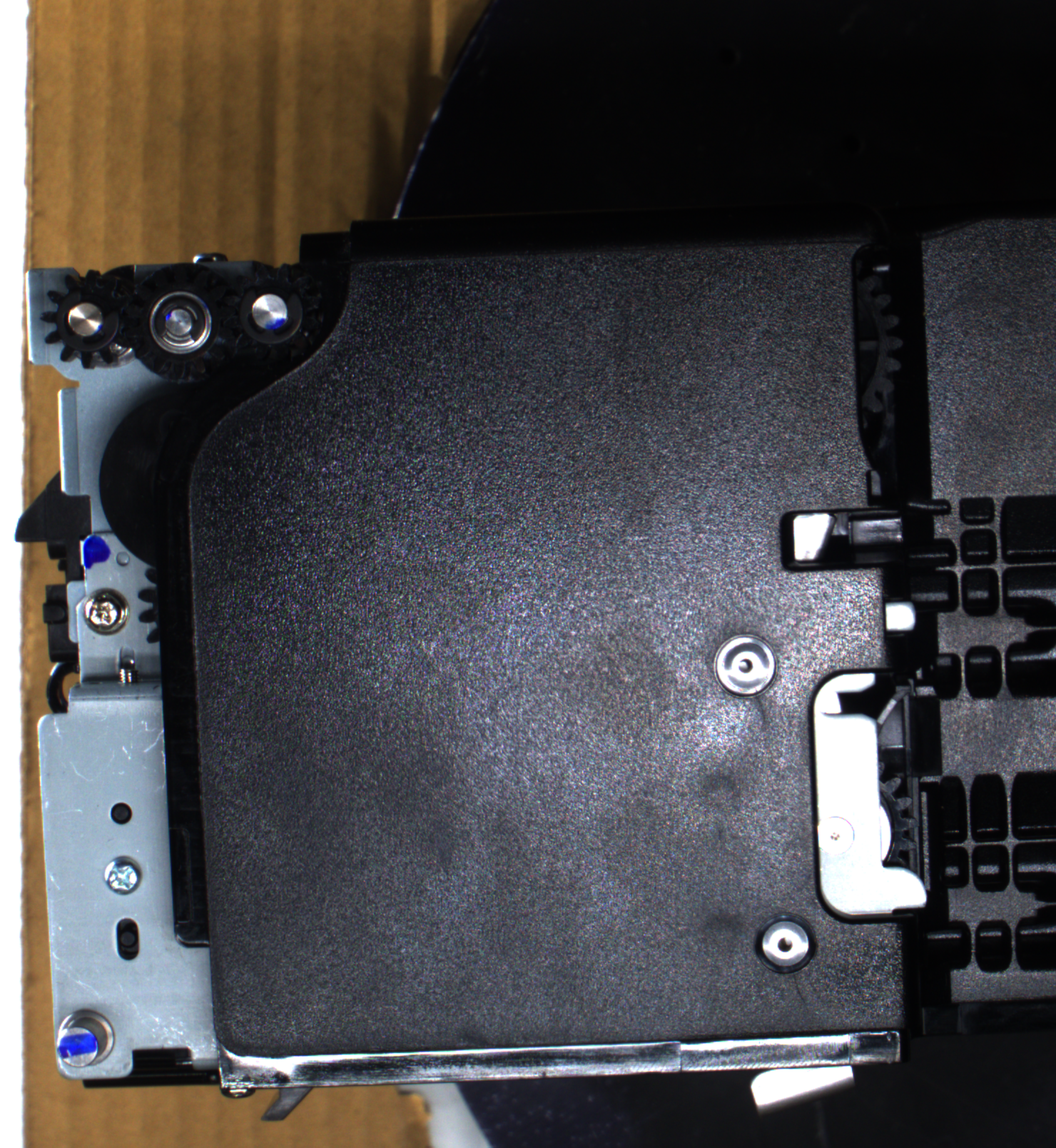centre_pin_presence: (744, 1047, 860, 1114)
centre_plate_presence: (807, 662, 940, 928)
centre_screw_presence: (710, 628, 783, 704), (749, 908, 821, 979)
gear1_presence: (38, 266, 139, 371)
gear2_presence: (123, 263, 236, 383)
gear3_presence: (219, 261, 323, 367)
side_screw_presence: (79, 585, 131, 636), (99, 854, 145, 896)
slanting_pin_presence: (51, 1005, 123, 1076)
